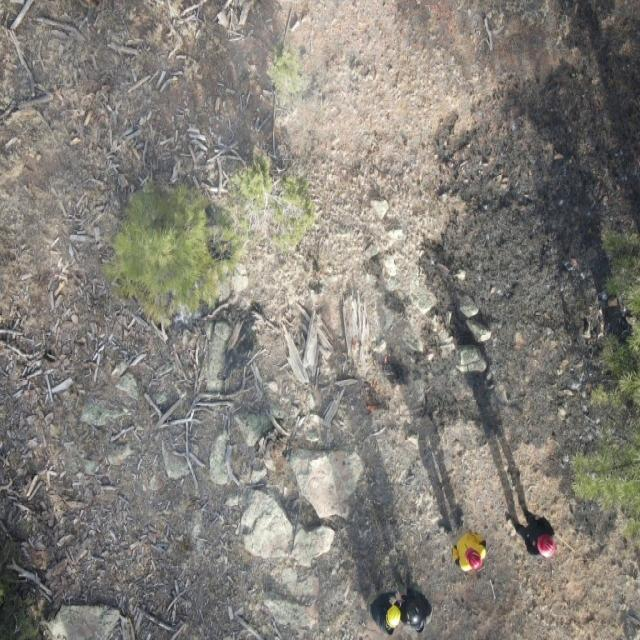fire: (359, 380, 387, 412), (378, 349, 396, 372)
